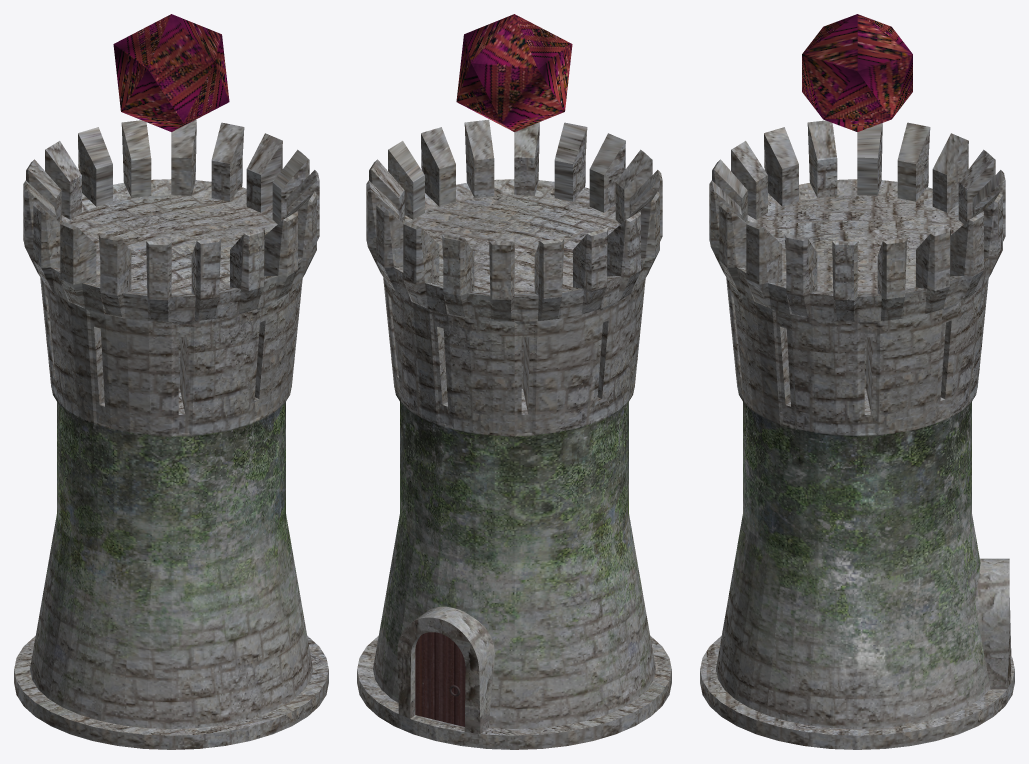
File: Tower_Defence_connected4.fbx
3 renders of one model, left to right at view 1: azimuth 30°, elevation 25°; view 2: azimuth 150°, elevation 25°; view 3: azimuth 270°, elevation 25°, orthographic.
Visible parts, largest first — view 1: tower_base, crystal; view 2: tower_base, crystal, arc, door; view 3: tower_base, crystal, arc.
Part boxes in pixels (box(x1,y1,x2,y2)): tower_base: box(14, 119, 328, 749); crystal: box(113, 14, 229, 131); tower_base: box(357, 119, 671, 749); crystal: box(456, 14, 572, 131); arc: box(397, 606, 494, 733); door: box(415, 632, 465, 726); tower_base: box(700, 120, 1014, 749); crystal: box(802, 14, 912, 131); arc: box(975, 558, 1011, 689).
Bounding box in the file's own units: 100 × 235 × 100.
1 material, 1 textured.
